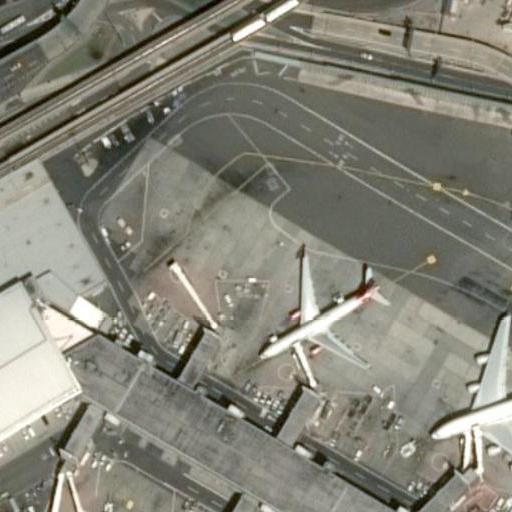Aircraft: (251, 241, 391, 375), (426, 303, 512, 488), (20, 500, 161, 512)
